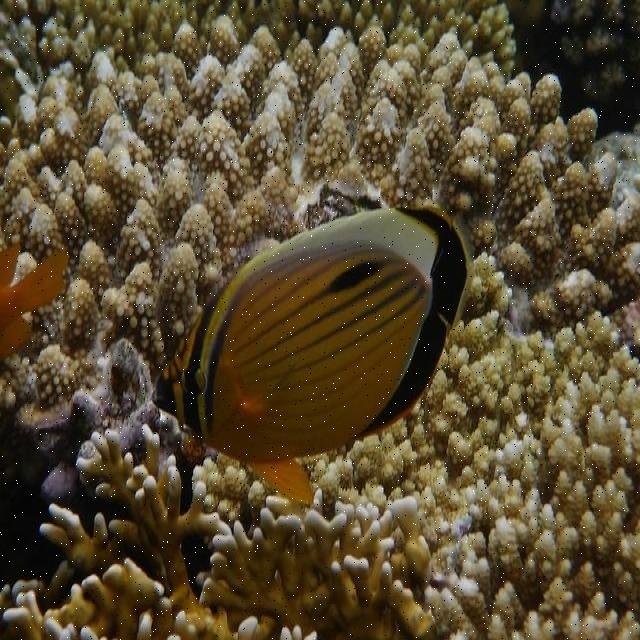fish: (154, 202, 477, 504), (0, 241, 67, 353)
reefs: (0, 426, 439, 639)
